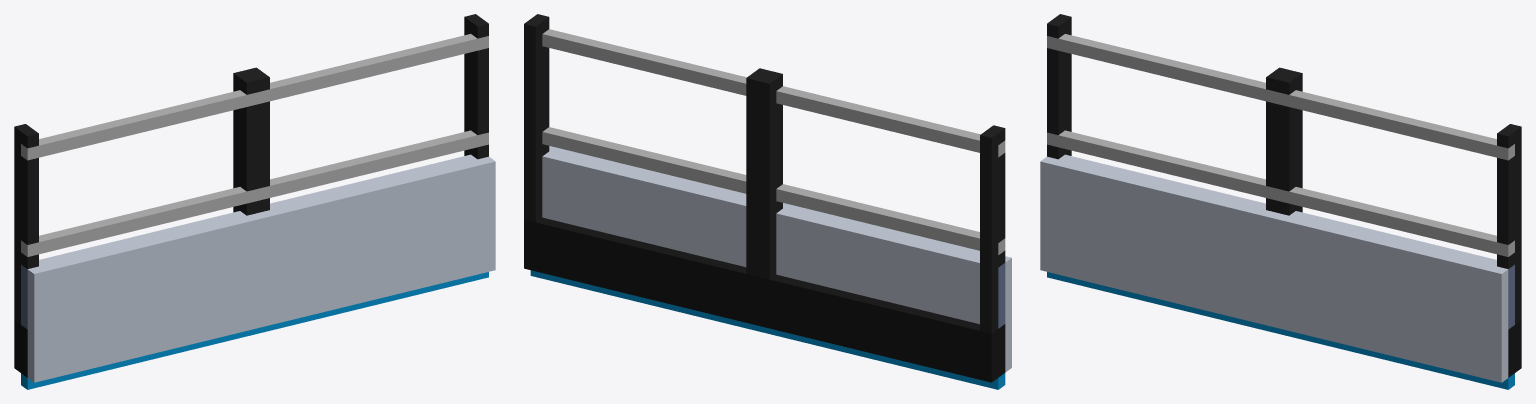
The model's file is LabLedgePanel.obj.
The picture shows the model from 3 angles, left to right: view 1: azimuth 30°, elevation 25°; view 2: azimuth 150°, elevation 25°; view 3: azimuth 330°, elevation 25°; orthographic projection.
Bounding box in the file's own units: 4 × 2.1 × 0.3.
Materials: 1 (1 with a texture image).
